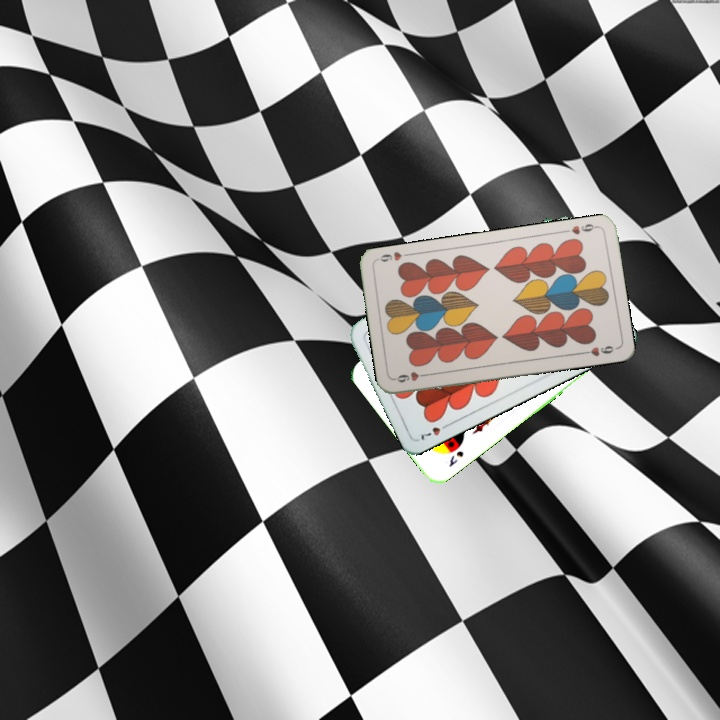H7: (417, 419, 453, 443)
H9: (391, 367, 432, 385), (567, 219, 600, 237)
SK: (445, 447, 466, 470)
